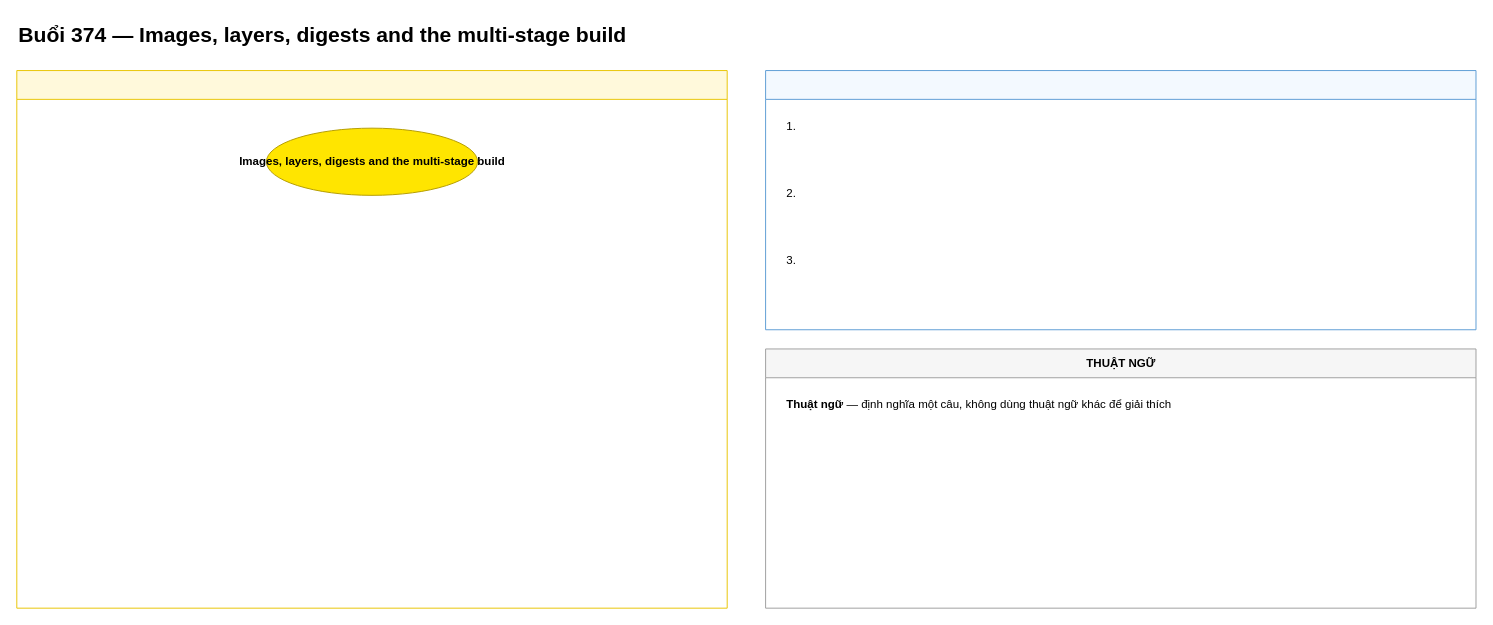
Image size: 1493x625. Some labels were removed from this diagram. The box of each missing label's shape, as (x1, y1, x2, y2) in pixels:
KEY TAKEAWAY — ba điều phải nhớ: (765, 70, 1476, 330)
MINDMAP: (16, 70, 727, 608)
